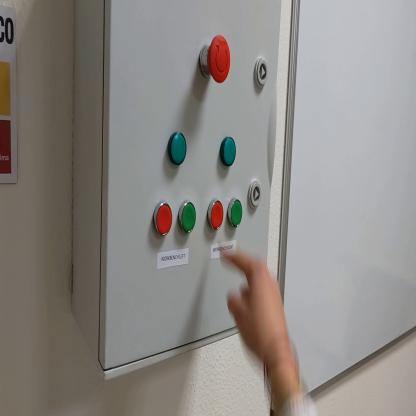hand: (221, 249, 292, 366)
left green button: (181, 202, 198, 235)
left red button: (156, 202, 172, 238)
right green button: (229, 199, 244, 228)
right red button: (207, 199, 225, 231)
